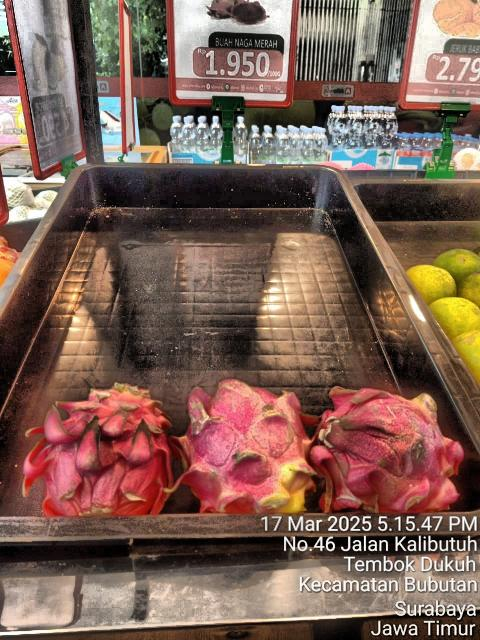buah-naga-belum-matang: (174, 373, 324, 513)
buah-naga-matang: (306, 374, 468, 514), (32, 374, 180, 520)
